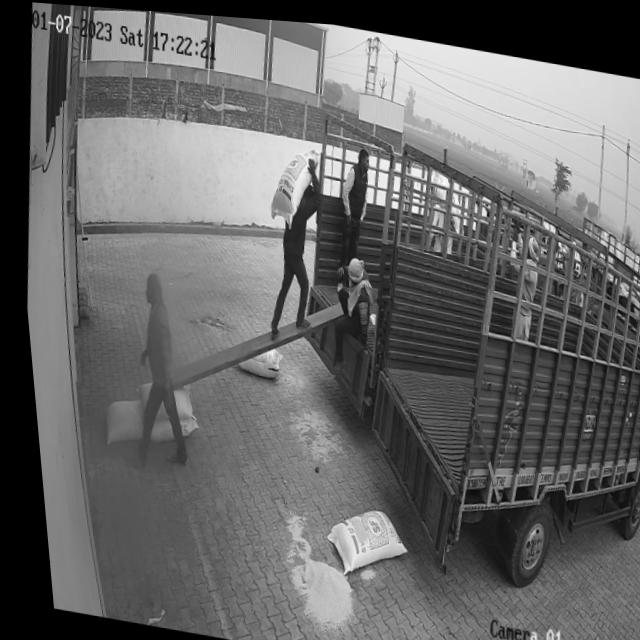sack: (311, 496, 402, 579), (261, 139, 324, 228), (92, 392, 142, 448), (128, 378, 188, 422), (228, 338, 277, 376), (139, 410, 190, 446)
